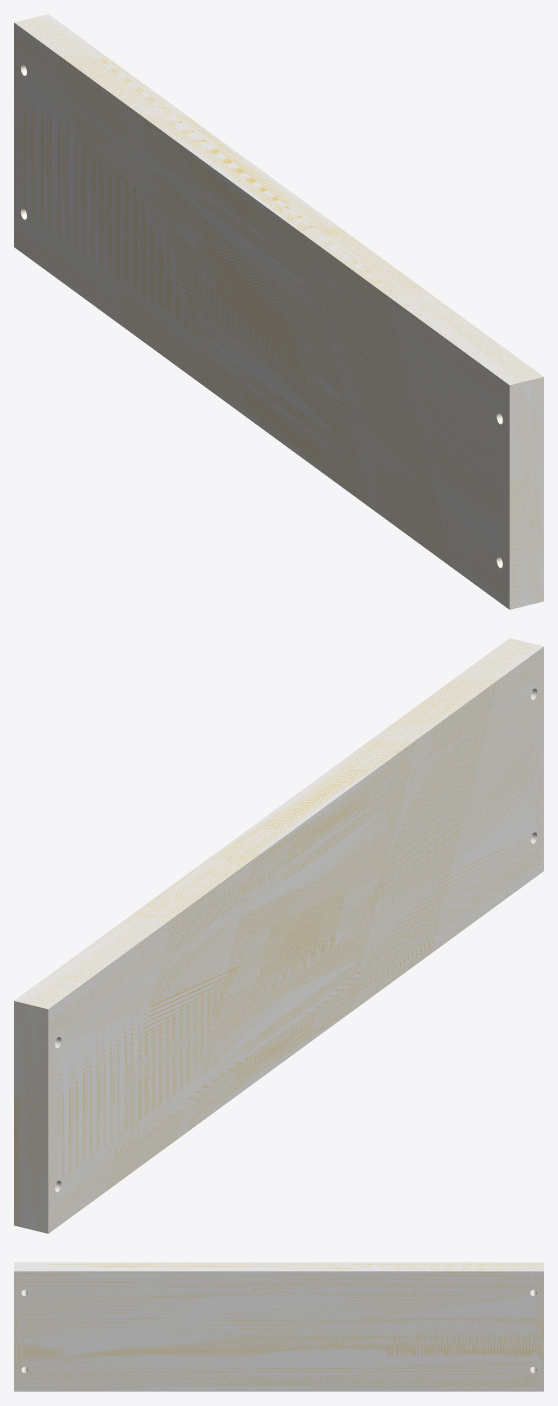
The model's file is original-23.obj.
3 views of the same model, one above another, from view 1: azimuth 30°, elevation 25°; view 2: azimuth 150°, elevation 25°; view 3: azimuth 270°, elevation 25° (orthographic). The views are drawn at different scales.
Parts seen in each view (by area): view 1: Group15/mesh21/mesh21-geometry#mesh21-geometry; view 2: Group15/mesh21/mesh21-geometry#mesh21-geometry; view 3: Group15/mesh21/mesh21-geometry#mesh21-geometry.
Boxes of the visible parts, box(x1,y1,x2,y2) form: Group15/mesh21/mesh21-geometry#mesh21-geometry: box(14, 14, 543, 609); Group15/mesh21/mesh21-geometry#mesh21-geometry: box(14, 638, 543, 1233); Group15/mesh21/mesh21-geometry#mesh21-geometry: box(14, 1262, 543, 1391).
Bounding box in the file's own units: 0.0176 × 0.1101 × 0.4405.
